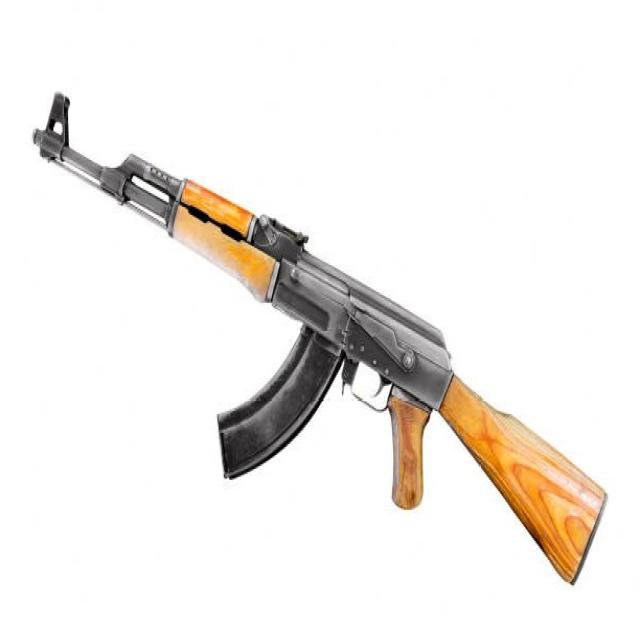rifle: (26, 86, 606, 597)
